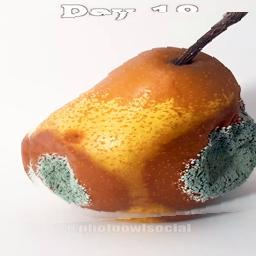Pear Rotten: (22, 13, 256, 226)
